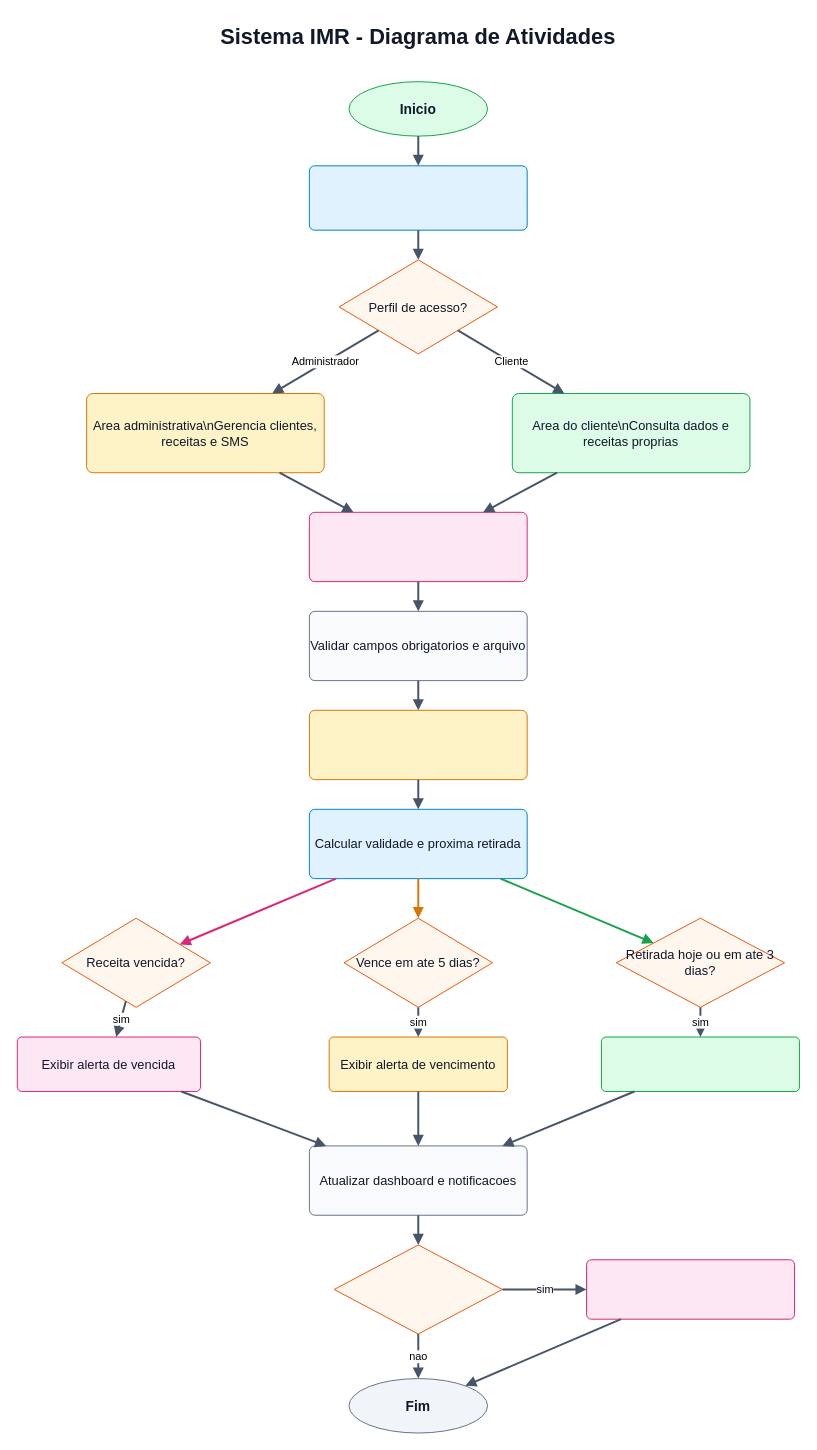
Image size: 817x1450. Some labels were removed from this diagram. The centre of each missing label's shape, as x and y in pixels:
Administrador deseja enviar SMS?: pixel 417 1289
Cadastrar ou atualizar receita: pixel 417 546
Enviar SMS e registrar historico: pixel 690 1289
Exibir lembrete de retirada: pixel 699 1063
Salvar receita no MySQL\ne arquivo em uploads: pixel 417 744
Usuario realiza login: pixel 417 197
